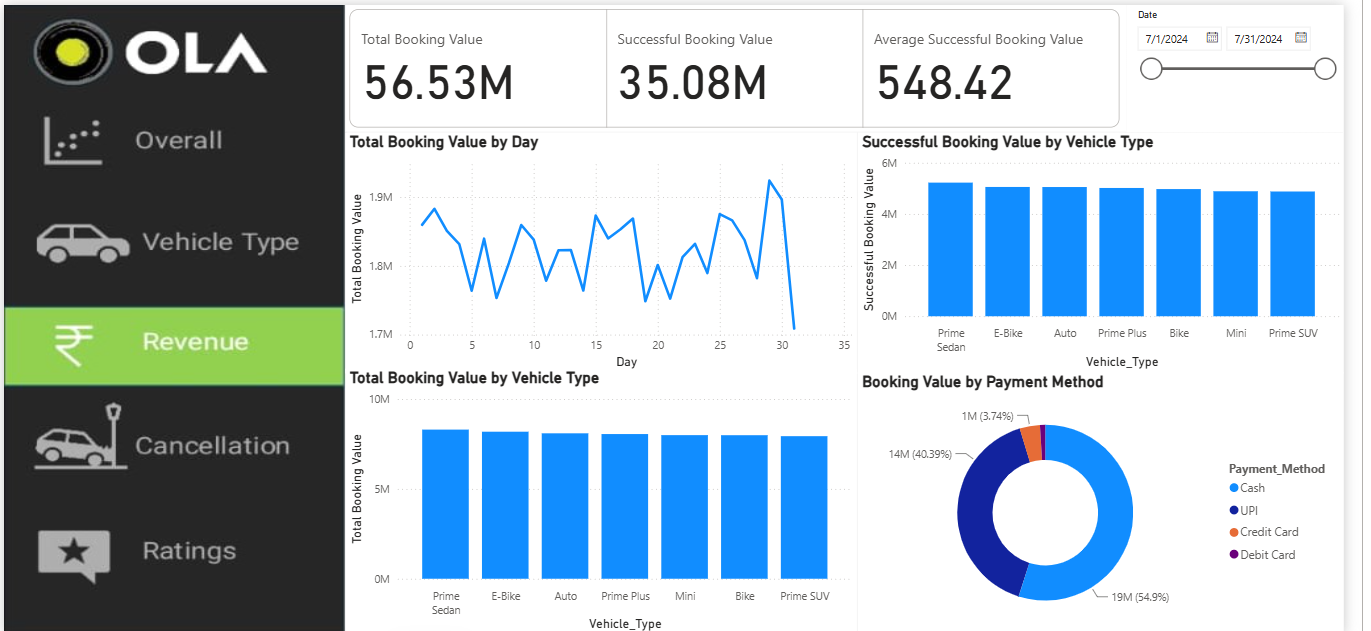

The dashboard page shown, as its layout file describes it:
{"tool":"powerbi","page":{"name":"Revenue","canvas":[1531,720],"ordinal":2},"visuals":[{"type":"actionButton","box":[0,235.3,324.5,90.5],"z":0},{"type":"actionButton","box":[0,451.2,323.3,91.7],"z":1000},{"type":"actionButton","box":[0,109.8,323.3,90.5],"z":2000},{"type":"actionButton","box":[0,577.9,325.7,90.5],"z":3000},{"type":"cardVisual","fields":{"Data":["Bookings_Cleaned.Total Booking Value","Bookings_Cleaned.Successful Booking Value","Bookings_Cleaned.Average Successful Booking Value"]},"box":[390,0,892.5,145],"z":4000},{"type":"lineChart","title":"Total Booking Value by Day","fields":{"Category":["Bookings_Cleaned.Date.Variation.Date Hierarchy.Day"],"Y":["Bookings_Cleaned.Total Booking Value"]},"box":[390,145,585,275],"z":5000},{"type":"clusteredColumnChart","title":"Total Booking Value by Vehicle Type","fields":{"Category":["Bookings_Cleaned.Vehicle_Type"],"Y":["Bookings_Cleaned.Total Booking Value"]},"box":[390,415,585,305],"z":6000},{"type":"donutChart","title":"Booking Value by Payment Method","fields":{"Category":["Bookings_Cleaned.Payment_Method"],"Y":["Bookings_Cleaned.Total Booking Value"]},"box":[975,420,555,300],"z":7000},{"type":"lineClusteredColumnComboChart","title":"Successful Booking Value by Vehicle Type","fields":{"Category":["Bookings_Cleaned.Vehicle_Type"],"Y":["Bookings_Cleaned.Successful Booking Value"]},"box":[975,145,555,275],"z":7001},{"type":"slicer","fields":{"Values":["Bookings_Cleaned.Date"]},"box":[1283.3,0,248.3,145],"z":7002}]}

Visuals, with their boxes in screenshot pixels (x1, y1, x2, y2), scaled from the page's 1531x720 canvas onto the 1371x631 screenshot:
actionButton: bbox(0, 206, 291, 286)
actionButton: bbox(0, 395, 290, 476)
actionButton: bbox(0, 96, 290, 176)
actionButton: bbox(0, 506, 292, 586)
cardVisual - Bookings_Cleaned.Total Booking Value x Bookings_Cleaned.Successful Booking Value: bbox(349, 0, 1148, 127)
"Total Booking Value by Day" lineChart: bbox(349, 127, 873, 368)
"Total Booking Value by Vehicle Type" clusteredColumnChart: bbox(349, 364, 873, 630)
"Booking Value by Payment Method" donutChart: bbox(873, 368, 1370, 630)
"Successful Booking Value by Vehicle Type" lineClusteredColumnComboChart: bbox(873, 127, 1370, 368)
slicer - Bookings_Cleaned.Date: bbox(1149, 0, 1370, 127)
